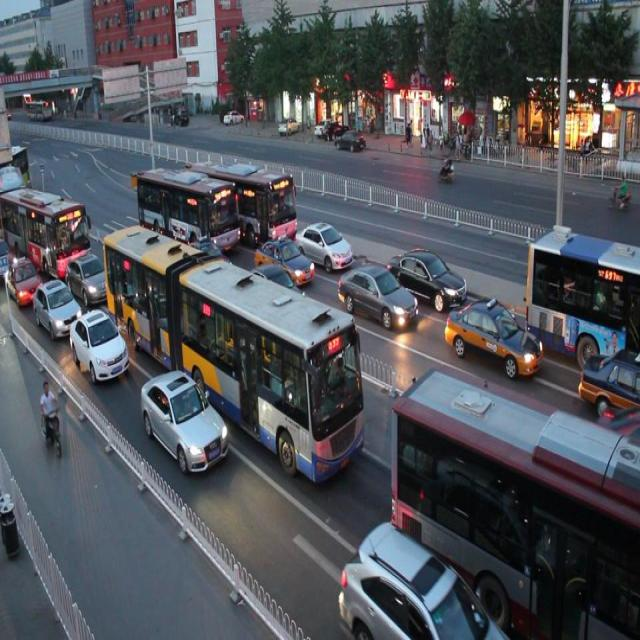car: (334, 515, 506, 640), (140, 367, 228, 473), (446, 294, 544, 382), (337, 258, 416, 331), (590, 406, 640, 518), (390, 243, 468, 309), (70, 308, 130, 381), (578, 350, 640, 411), (253, 230, 314, 289), (294, 214, 352, 273), (181, 236, 237, 291), (36, 278, 82, 342), (247, 259, 304, 310), (67, 251, 112, 306), (0, 250, 42, 307)
van: (102, 218, 366, 482), (390, 363, 640, 629), (524, 225, 640, 360), (136, 160, 240, 262), (191, 153, 298, 248), (1, 182, 90, 272)
